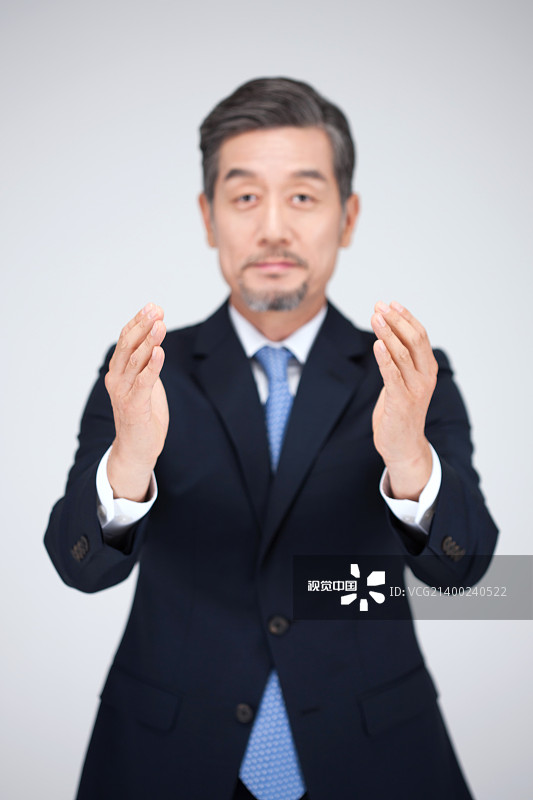no-phone: (91, 295, 204, 503), (353, 285, 447, 492)
